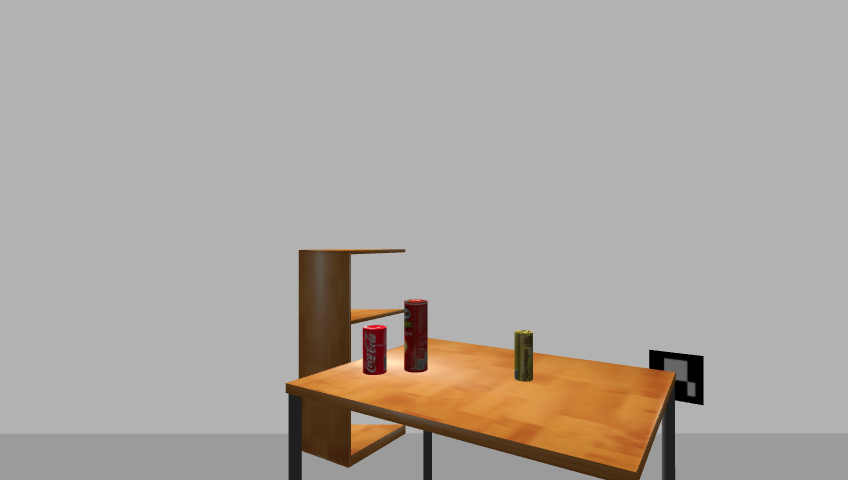aruco marker: (644, 348, 709, 407)
biscuits pack: (513, 331, 535, 383)
bookshelf: (292, 245, 410, 474)
coke can: (360, 324, 389, 376)
dinner table: (279, 337, 684, 480)
pringles can: (401, 299, 430, 374)
